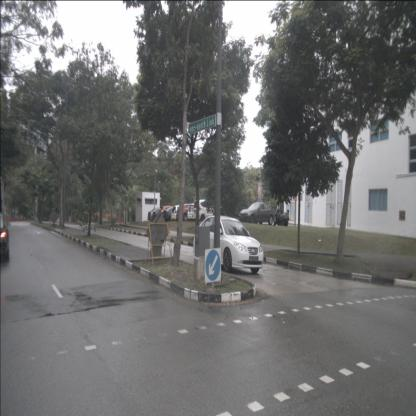vehicle-car: (193, 216, 264, 274), (238, 202, 276, 225), (192, 199, 226, 222), (0, 211, 10, 263), (176, 203, 202, 222), (187, 204, 208, 221), (162, 206, 184, 222), (171, 205, 190, 221), (159, 206, 178, 221), (147, 208, 166, 222), (152, 209, 170, 222)
vehicle-motorcycle: (273, 204, 290, 226)
